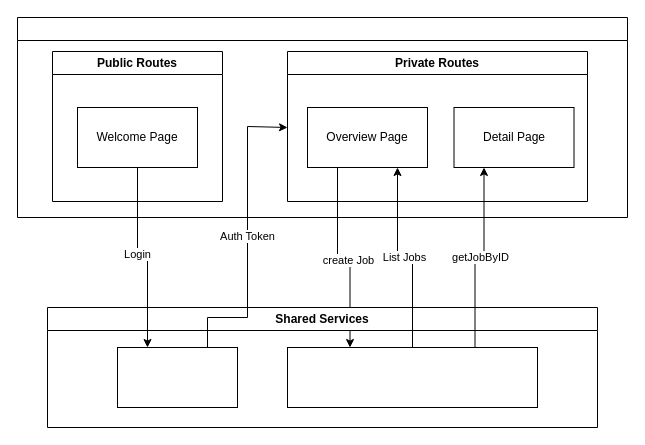
The diagram is 645 pixels wide and 445 high, and some of its shapes have lost their labels. Here are the shapes that lost their labels. From the top down, the centre of each, then its label:
(322,117): IRS-DV
(177,377): KeyCloak
(412,377): IRS API
